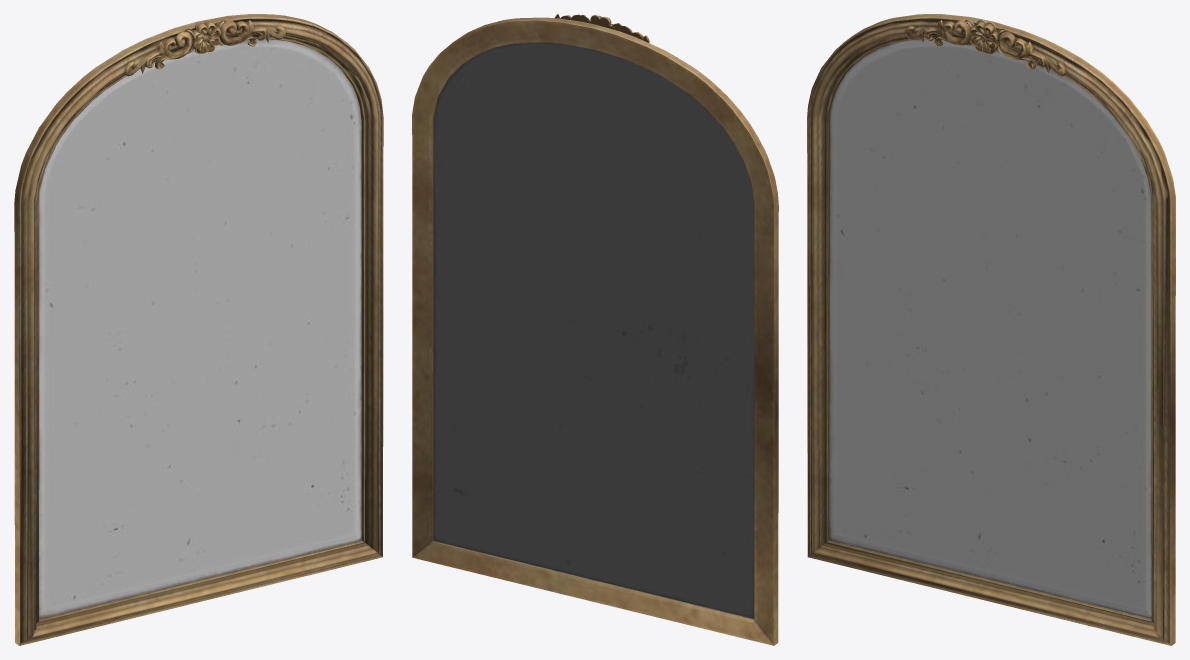
Rendered from ornate_mirror_01.glb.
The picture shows the model from 3 angles, left to right: view 1: azimuth 30°, elevation 25°; view 2: azimuth 150°, elevation 25°; view 3: azimuth 330°, elevation 25°; orthographic projection.
Parts seen in each view (by area): view 1: ornate_mirror_01; view 2: ornate_mirror_01; view 3: ornate_mirror_01.
Part boxes in pixels (left/top/right/bottom): ornate_mirror_01: left=14, top=14, right=383, bottom=645; ornate_mirror_01: left=412, top=14, right=778, bottom=645; ornate_mirror_01: left=807, top=14, right=1175, bottom=645.
Bounding box in the file's own units: 0.4865 × 0.7437 × 0.026.
Materials: 1 (1 with a texture image).
